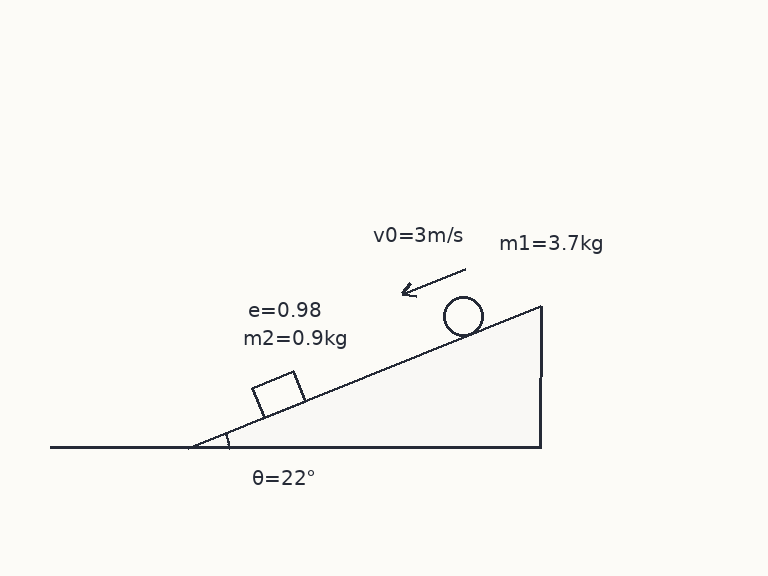ball: (441, 294, 485, 338)
block: (250, 369, 307, 420)
ramp: (187, 304, 541, 450)
